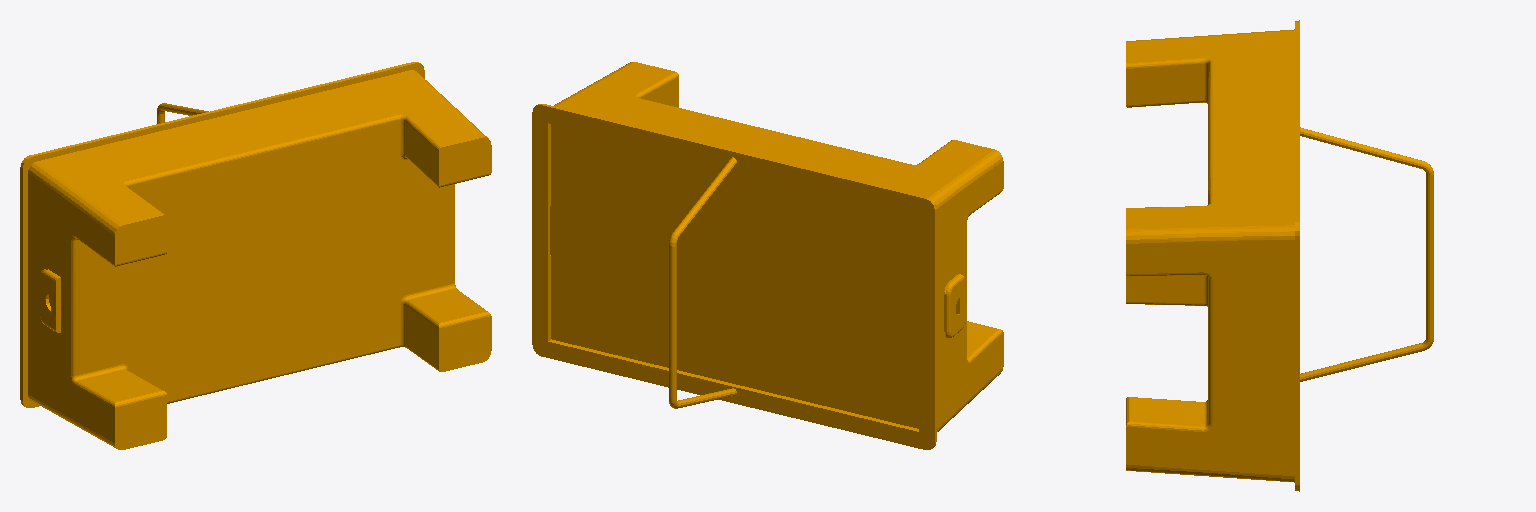
The robot description file, URDF, robot "AHTable":
<?xml version="1.0"?>
<robot name="AHTable">

    <!-- Main Table (Root Link) -->
    <link name="box">
        <visual>
            <geometry>
                <mesh filename="package://air_hockey/SR24_02_ExeAHTable.obj" scale="1 1 1"/>
            </geometry>
            <origin xyz="0.0 0.0 0.0" rpy="0.0 0.0 0.0"/>
        </visual>
        <collision>
            <geometry>
                <mesh filename="package://air_hockey/SR24_02_ExeAHTable.obj" scale="1 1 1"/>
            </geometry>
        </collision>
        <inertial>
            <origin xyz="0.0 0.0 0.0" rpy="0.0 0.0 0.0"/>
            <mass value="0.1"/>
            <inertia ixx="0.00004" ixy="0.0" ixz="0.0" iyy="0.00004" iyz="0.0" izz="0.00004"/>
        </inertial>
    </link>

    <gazebo>
        <static>true</static>
        <mu1 value="0.0"/>
        <mu2 value="0.0"/>
        <maxVel value="25.0"/>
        <restitutionCoefficient value="0.99"/>
        <bounceThreshold value="0.1"/>
    </gazebo>


</robot>

--- Render facts (derived) ---
3 views of the same robot in one strip: view 1: azimuth 30°, elevation 25°; view 2: azimuth 150°, elevation 25°; view 3: azimuth 270°, elevation 25° (orthographic).
Model AHTable with 1 links and 0 joints (none), rooted at box, posed all joints at 0.
Visible links, largest first — view 1: box; view 2: box; view 3: box.
Boxes of the visible links, <box> form: box: <box>20,62,491,449</box>; box: <box>532,62,1003,449</box>; box: <box>1126,20,1433,491</box>.
Bounding box of the posed robot: 2.28 × 1.42 × 1.36 m (x, y, z).
1 mesh visuals loaded from 1 distinct referenced files (1 OBJ).